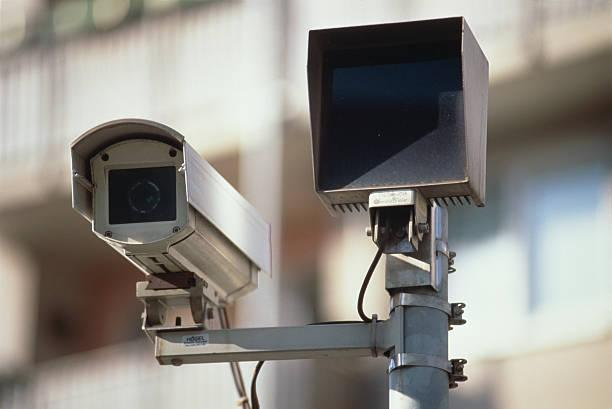camera: (45, 93, 290, 333)
